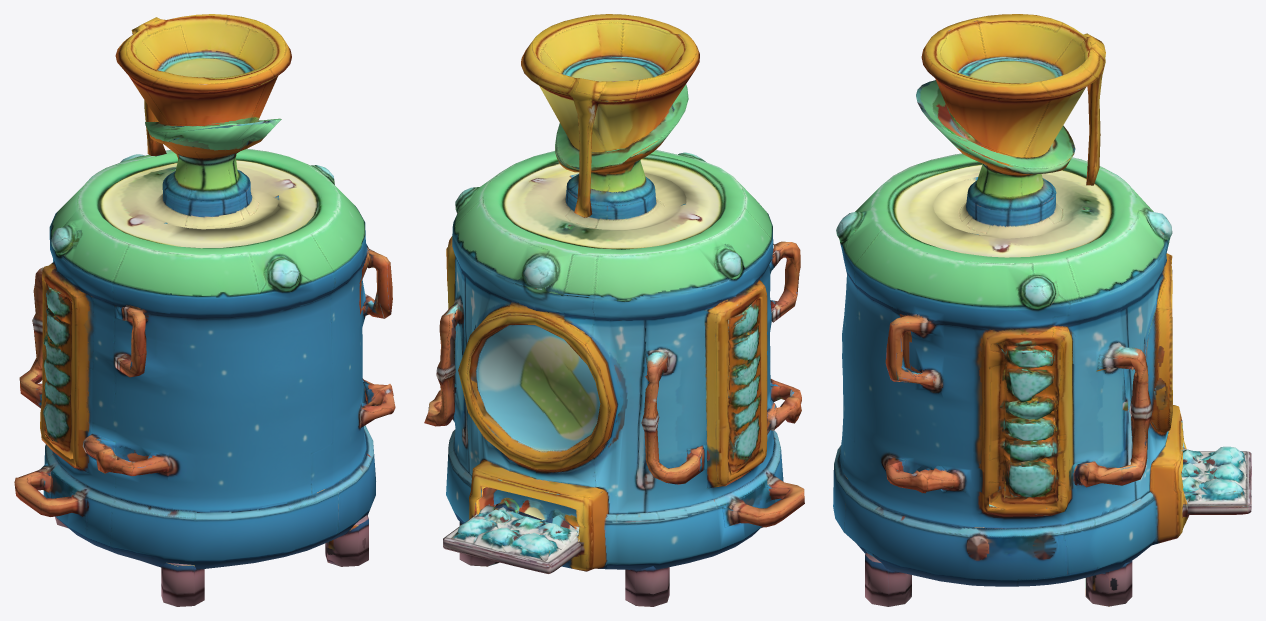
File: ice.fbx
The picture shows the model from 3 angles, left to right: view 1: azimuth 30°, elevation 25°; view 2: azimuth 150°, elevation 25°; view 3: azimuth 270°, elevation 25°; orthographic projection. The views are drawn at different scales.
Parts seen in each view (by area): view 1: iceMaker; view 2: iceMaker; view 3: iceMaker.
Boxes of the visible parts, <box> form: iceMaker: <box>14,14,395,606</box>; iceMaker: <box>424,14,804,606</box>; iceMaker: <box>833,14,1251,606</box>.
Bounding box in the file's own units: 1.27 × 1.36 × 1.82.
Materials: 1 (1 with a texture image).
